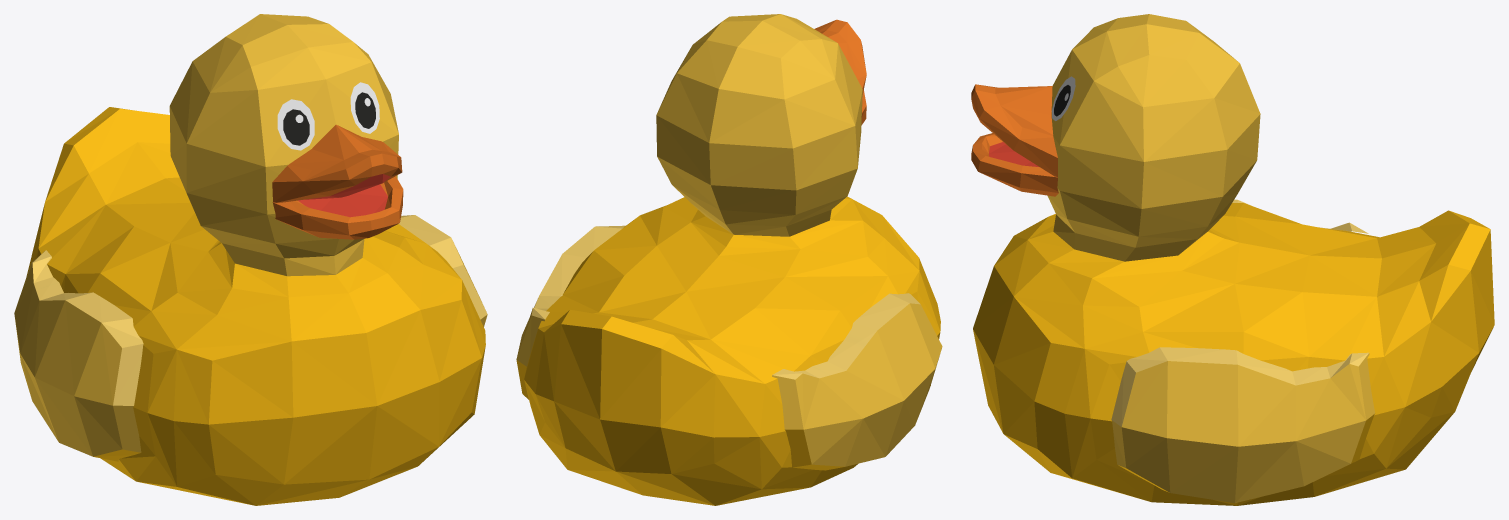
Rendered from rubberduckv2.gltf.
3 renders of one model, left to right at view 1: azimuth 30°, elevation 25°; view 2: azimuth 150°, elevation 25°; view 3: azimuth 270°, elevation 25°, orthographic. The views are drawn at different scales.
Parts seen in each view (by area): view 1: RubberDuck; view 2: RubberDuck; view 3: RubberDuck.
Boxes of the visible parts, x1,y1,x2,y2 form: RubberDuck: (14, 14, 487, 505); RubberDuck: (516, 14, 942, 505); RubberDuck: (971, 14, 1494, 505).
Bounding box in the file's own units: 1.36 × 1.43 × 1.56.
1 material, 1 textured.
